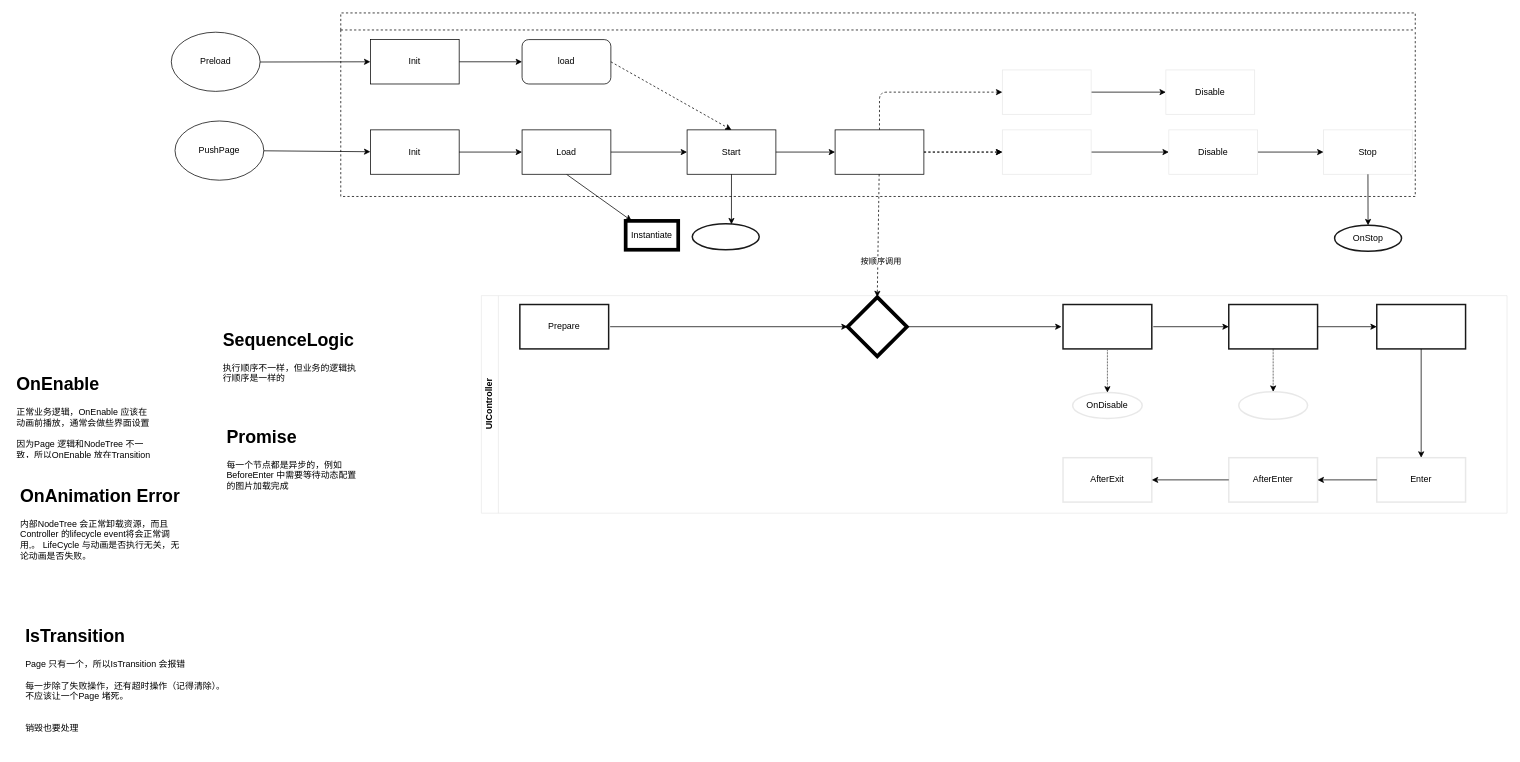
Image size: 1520x762. Some labels were removed from this diagram. Each missing label, with the box of its shape:
BeforeEnter: (1228, 303, 1318, 349)
BeforeExit: (1062, 303, 1152, 349)
Enable: (834, 129, 924, 174)
Exit: (1376, 303, 1466, 349)
NodeTree: (340, 12, 1415, 196)
OnEnable: (1238, 391, 1308, 420)
OnStart: (691, 223, 760, 250)
RemoveChild: (1002, 69, 1091, 114)
UnloadChild: (1002, 129, 1091, 174)
